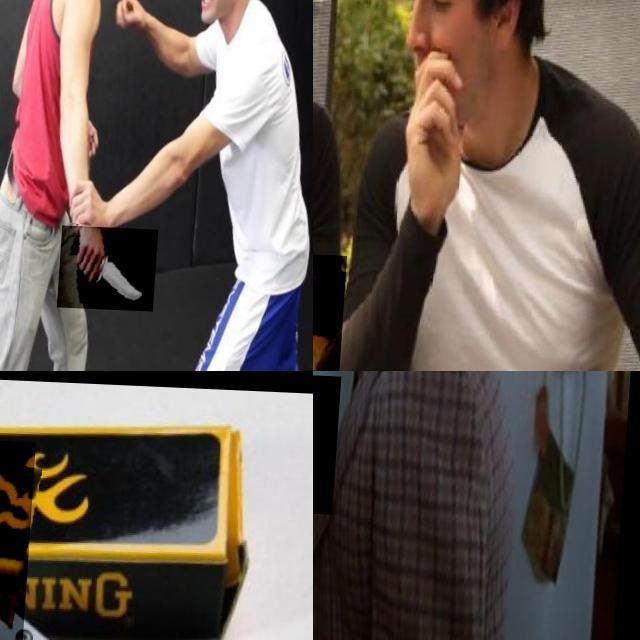-: (0, 428, 162, 640), (313, 246, 409, 371), (64, 223, 164, 309)
gun-knife-thesis - v11 Yolov5 augmented: (313, 371, 354, 511)
